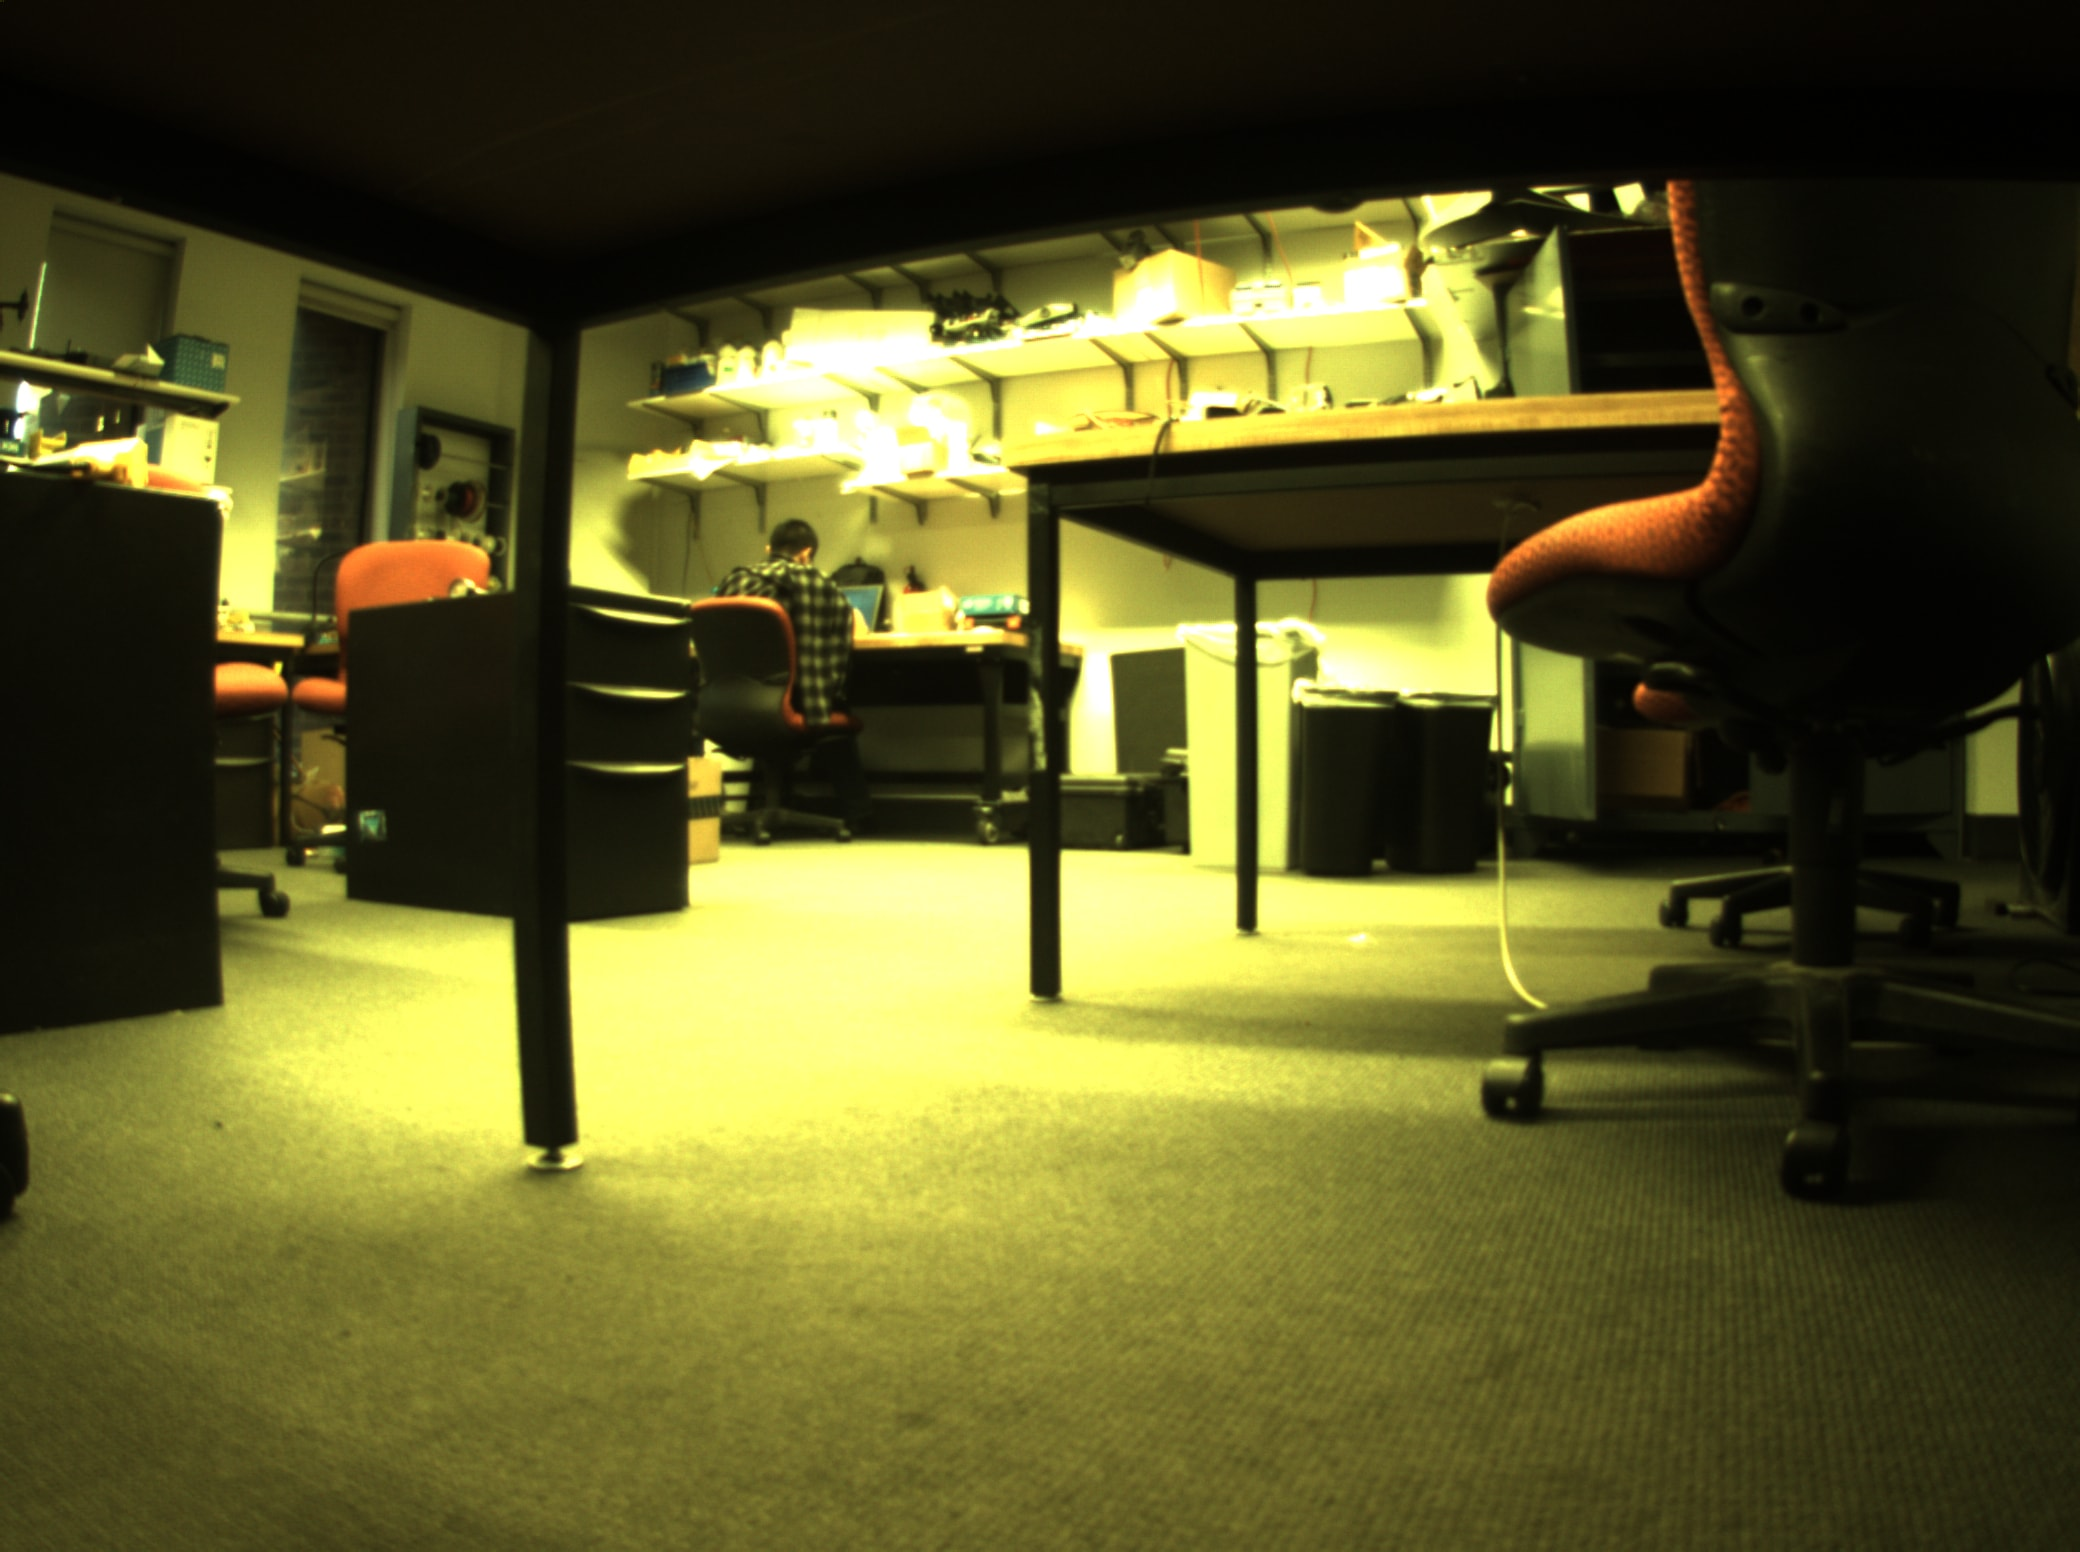chair: (1459, 127, 2070, 1216), (297, 504, 497, 902), (670, 574, 874, 858)
